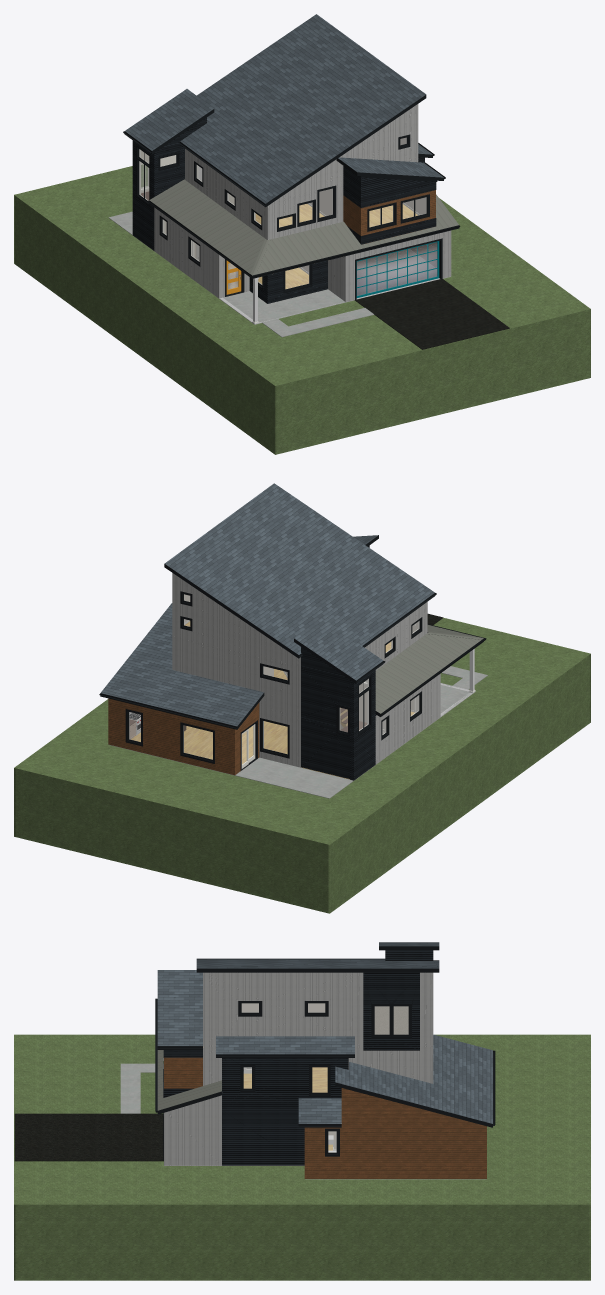
File: house.dae
3 views of the same model, one above another, from view 1: azimuth 30°, elevation 25°; view 2: azimuth 150°, elevation 25°; view 3: azimuth 270°, elevation 25° (orthographic). The views are drawn at different scales.
Parts seen in each view (by area): view 1: geo_132, geo_183, geo_137, geo_118, geo_123, geo_116, geo_212, geo_61, geo_127, geo_84, geo_59, geo_80 (+3 smaller); view 2: geo_132, geo_183, geo_137, geo_116, geo_123, geo_80, geo_118, geo_61, geo_127, geo_59, geo_11; view 3: geo_132, geo_137, geo_183, geo_116, geo_80, geo_212, geo_123, geo_127, geo_61, geo_118, geo_86, geo_59 (+1 smaller).
Boxes of the visible parts, bbox=[...] form: geo_132: bbox=[14, 164, 590, 454]; geo_183: bbox=[125, 14, 443, 203]; geo_137: bbox=[154, 104, 451, 301]; geo_118: bbox=[149, 179, 458, 275]; geo_123: bbox=[123, 95, 460, 299]; geo_116: bbox=[132, 117, 436, 303]; geo_212: bbox=[354, 279, 509, 349]; geo_61: bbox=[108, 211, 436, 337]; geo_127: bbox=[139, 137, 426, 288]; geo_84: bbox=[357, 242, 437, 295]; geo_59: bbox=[228, 204, 417, 288]; geo_80: bbox=[343, 190, 435, 243]; geo_132: bbox=[14, 617, 590, 913]; geo_183: bbox=[100, 483, 434, 726]; geo_137: bbox=[172, 573, 440, 767]; geo_116: bbox=[301, 545, 376, 780]; geo_123: bbox=[99, 535, 486, 770]; geo_80: bbox=[108, 698, 259, 775]; geo_118: bbox=[366, 625, 483, 713]; geo_61: bbox=[235, 666, 487, 798]; geo_127: bbox=[129, 594, 419, 764]; geo_59: bbox=[131, 621, 414, 779]; geo_11: bbox=[129, 595, 475, 768]; geo_132: bbox=[14, 1034, 590, 1280]; geo_137: bbox=[164, 972, 433, 1165]; geo_183: bbox=[157, 942, 492, 1123]; geo_116: bbox=[163, 950, 433, 1165]; geo_80: bbox=[164, 1057, 486, 1178]; geo_212: bbox=[14, 1113, 163, 1161]; geo_123: bbox=[155, 942, 495, 1160]; geo_127: bbox=[242, 1003, 408, 1152]; geo_61: bbox=[120, 1063, 163, 1113]; geo_118: bbox=[157, 1050, 221, 1110]; geo_86: bbox=[374, 1006, 408, 1034]; geo_59: bbox=[243, 1067, 332, 1150].
Bounding box in the file's own units: 720 × 1032 × 529.
Materials: 61 (29 with a texture image).
